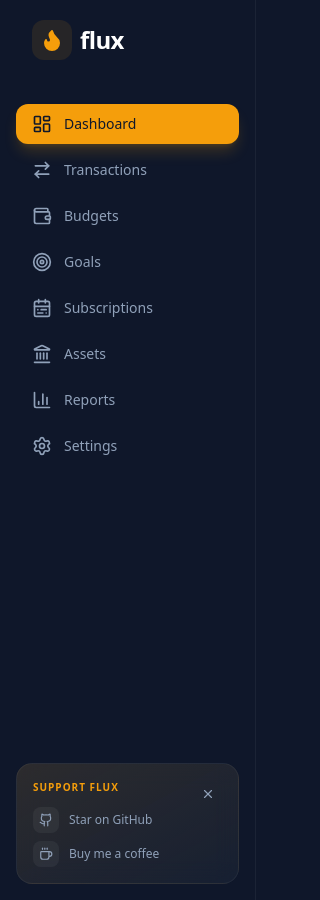
Test: Sidebar › should hide promo when close button is clicked
Expected: the text "Support flux" is shown, [33,780,119,794]
Click the button titled "Hide": click(208, 794) [186,772,230,816]
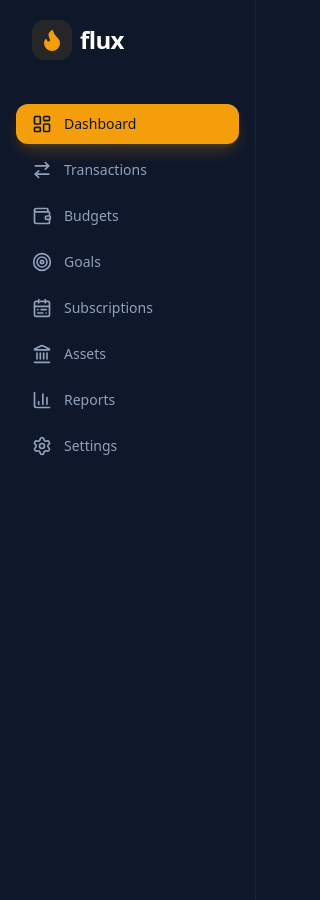
Result: the text "Support flux" is gone
